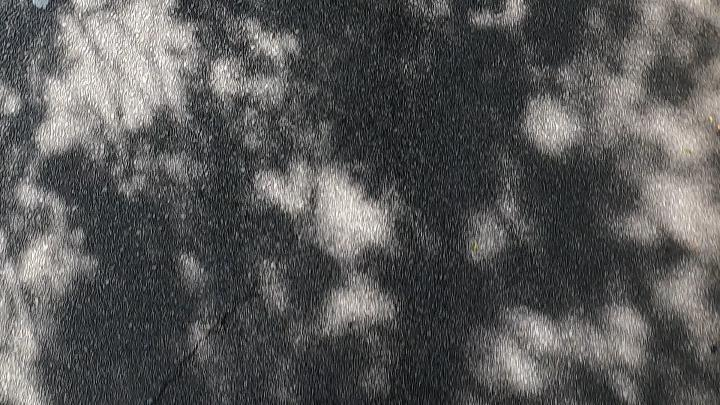Crack: (146, 287, 257, 405), (148, 291, 252, 405)
